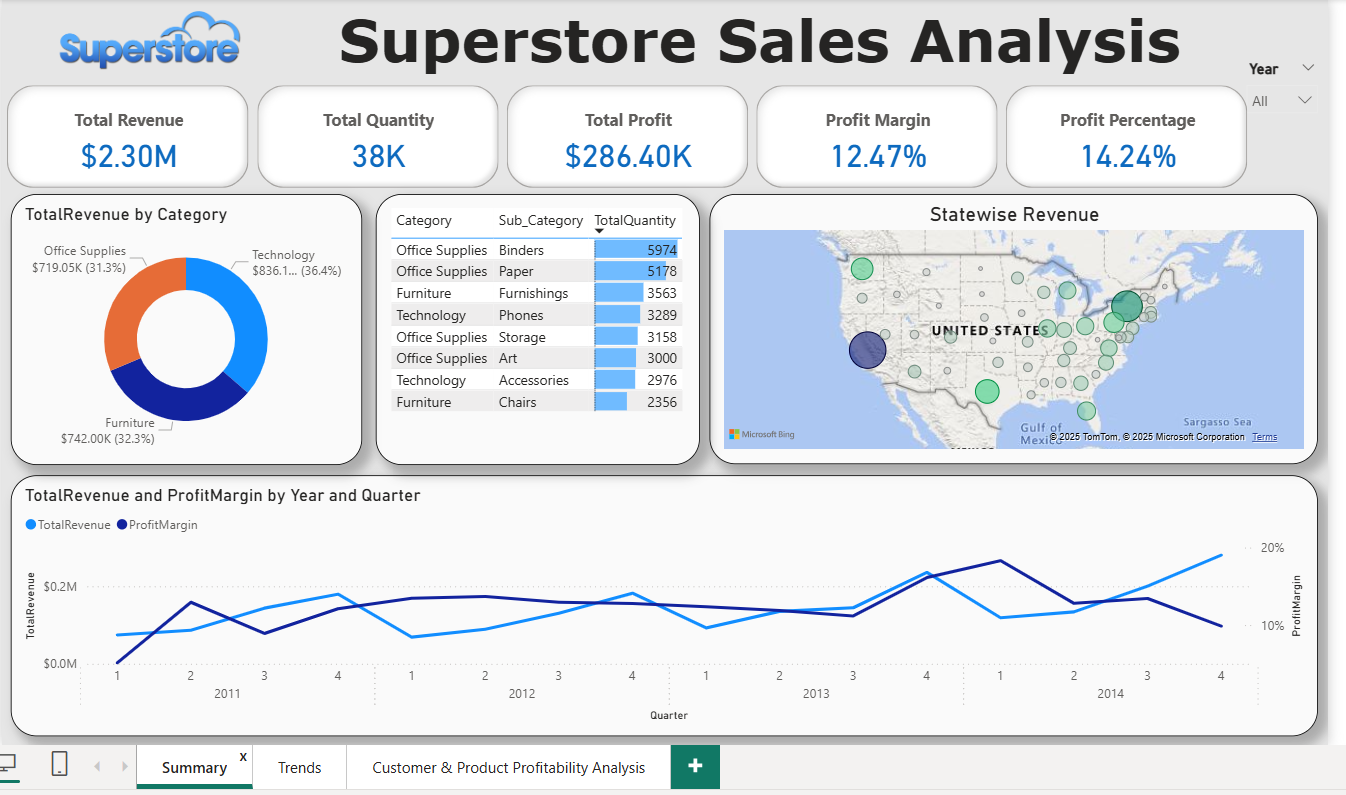

Layout of this report page (visuals, bound fields, positions):
{"tool":"powerbi","page":{"name":"Summary","canvas":[1280,720],"ordinal":0},"visuals":[{"type":"group","id":"g1","title":"Title","box":[0,0,1280,78.4],"z":0},{"type":"textbox","box":[0,0,1280,78.4],"z":1000,"group":"g1"},{"type":"slicer","fields":{"Values":["DateTable.Year"]},"box":[1190.8,54.3,89.3,150.8],"z":1000},{"type":"image","box":[0,0,285.4,78.4],"z":1500,"group":"g1"},{"type":"cardVisual","fields":{"Data":["All Measures.TotalRevenue","All Measures.TotalQuantity","All Measures.TotalProfit","All Measures.ProfitMargin","All Measures.ProfitPercentage"]},"box":[0,78.4,1207.6,109.8],"z":2000},{"type":"map","title":"Statewise Revenue","fields":{"Size":["All Measures.TotalRevenue"],"Category":["Orders.State"]},"box":[682.8,188.2,587.5,260.6],"z":3000},{"type":"lineChart","fields":{"Category":["DateTable.Year","DateTable.Quarter"],"Y":["All Measures.TotalRevenue"],"Y2":["All Measures.ProfitMargin"]},"box":[8.4,459.7,1261.9,252.1],"z":4000},{"type":"donutChart","fields":{"Category":["Products.Category","Products.Sub_Category"],"Y":["All Measures.TotalRevenue"]},"box":[8.4,188.2,339,261.8],"z":5000},{"type":"tableEx","fields":{"Values":["Products.Category","Products.Sub_Category","All Measures.TotalQuantity"]},"box":[360.7,188.2,312.5,261.8],"z":6000}]}

Visuals, with their boxes on the page's 1280x720 design canvas (x1, y1, x2, y2). These are canvas units, not pixel positions in the 1346x795 screenshot, which may show the page scaled, cropped or inside an application window:
"Title" group: box(0, 0, 1280, 78)
textbox: box(0, 0, 1280, 78)
slicer - DateTable.Year: box(1191, 54, 1280, 205)
image: box(0, 0, 285, 78)
cardVisual - All Measures.TotalRevenue x All Measures.TotalQuantity: box(0, 78, 1208, 188)
"Statewise Revenue" map: box(683, 188, 1270, 449)
lineChart - DateTable.Year x DateTable.Quarter: box(8, 460, 1270, 712)
donutChart - Products.Category x Products.Sub_Category: box(8, 188, 347, 450)
tableEx - Products.Category x Products.Sub_Category: box(361, 188, 673, 450)
